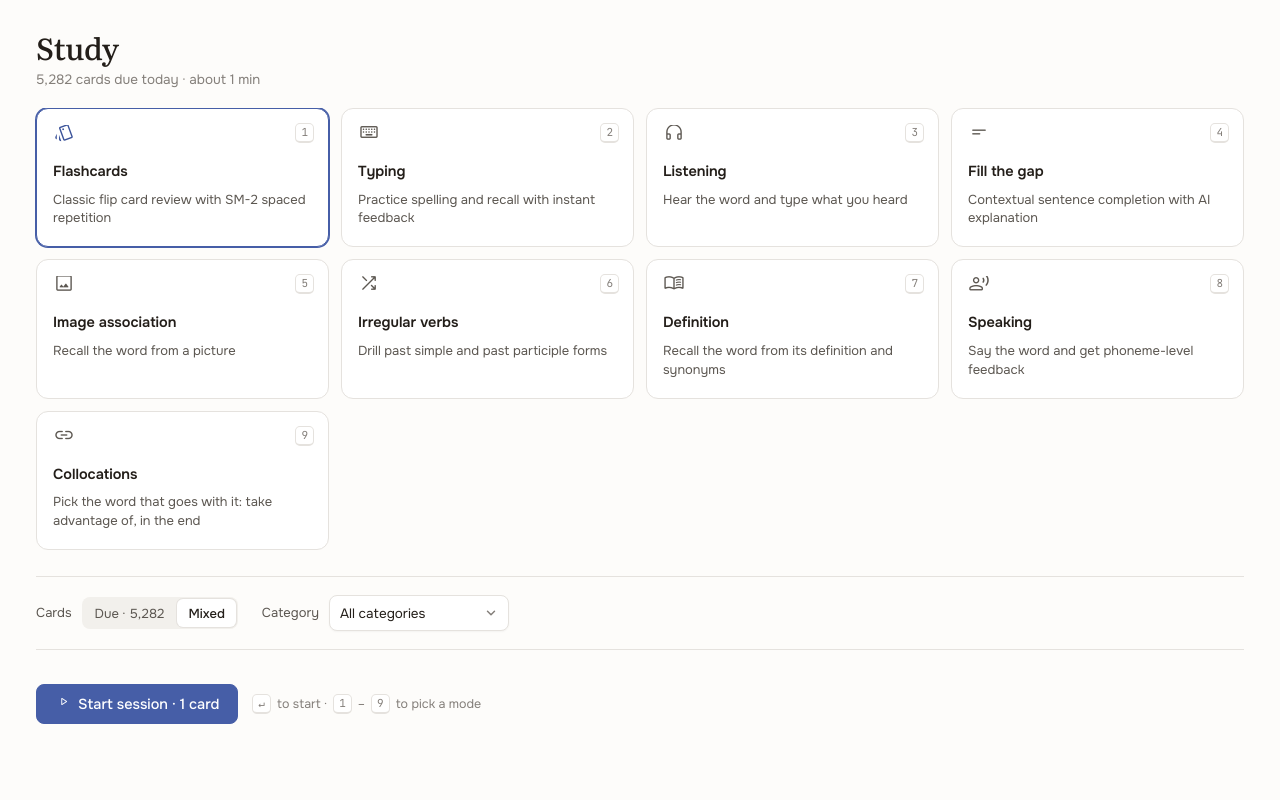
Scenario: StudyPage › marks the session top bar as a window drag region and hints the rating keys
Click the button "Start session · 1 card" at (137, 704), box [36,684,238,724]
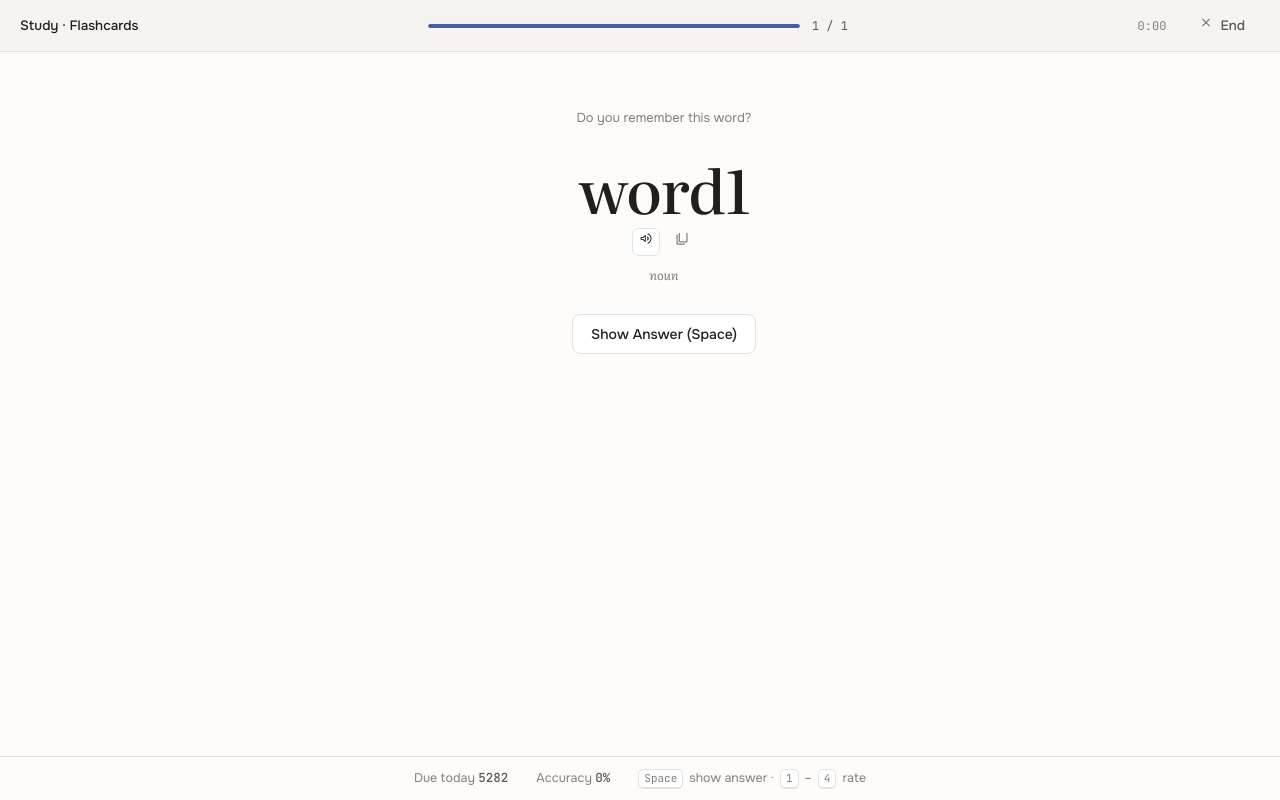
Expected: the text "Space show answer · 1 – 4 rate" is shown, [638,768,866,788]
